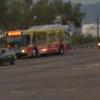Bus: (6, 22, 77, 55)
